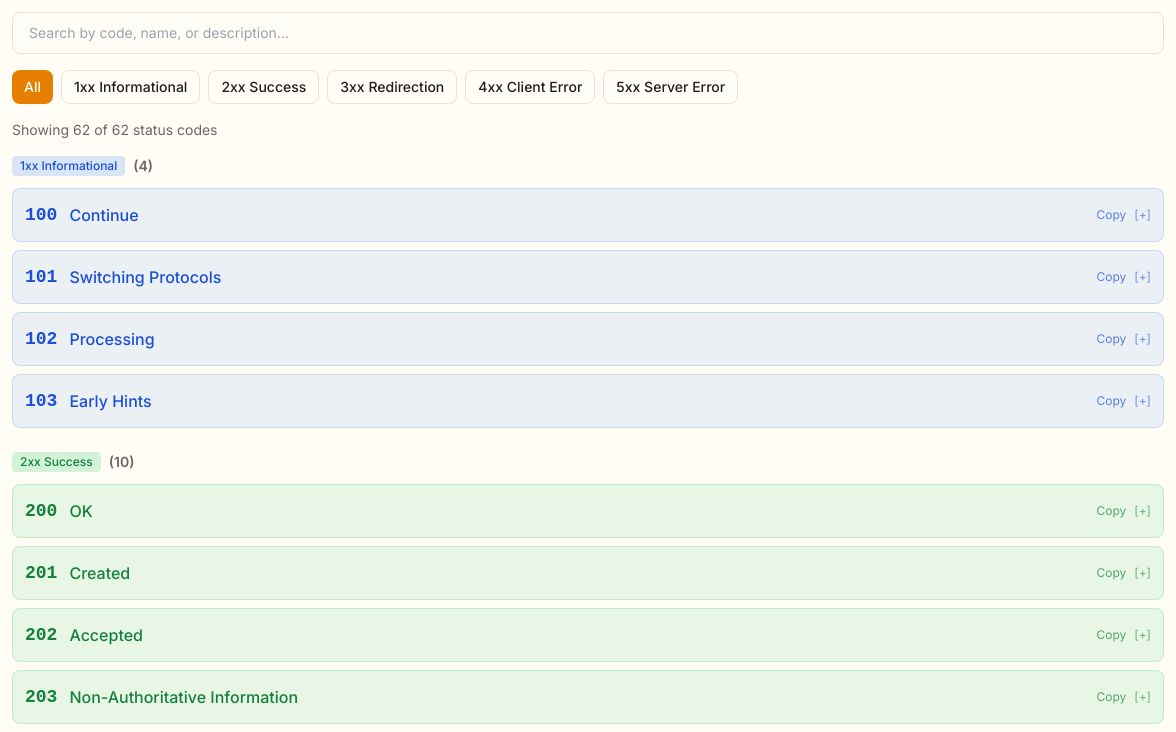
Test case: HttpStatusCodes › filters status codes by search
Type "404" into the field with placeholder "Search by code, name, or description...".
click(588, 33); type("404")  # box [12,12,1164,54]
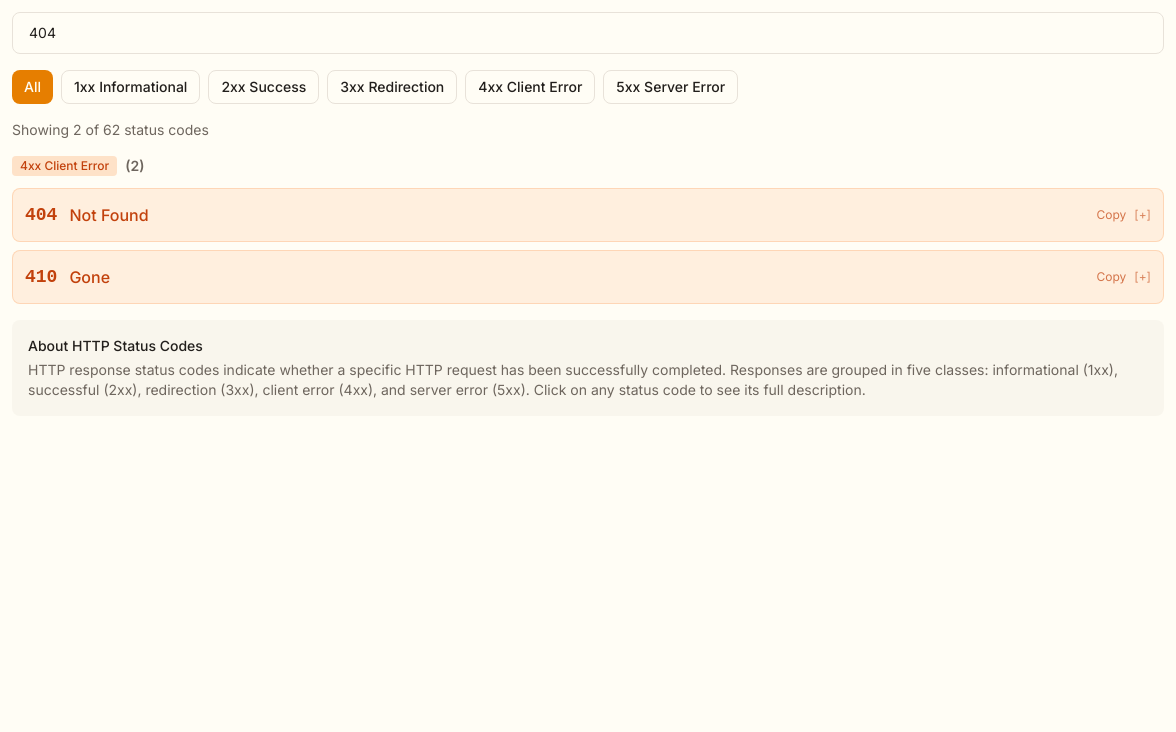
Expected: the text "404" is shown, [25,201,57,229]
Now the button "200" is gone
